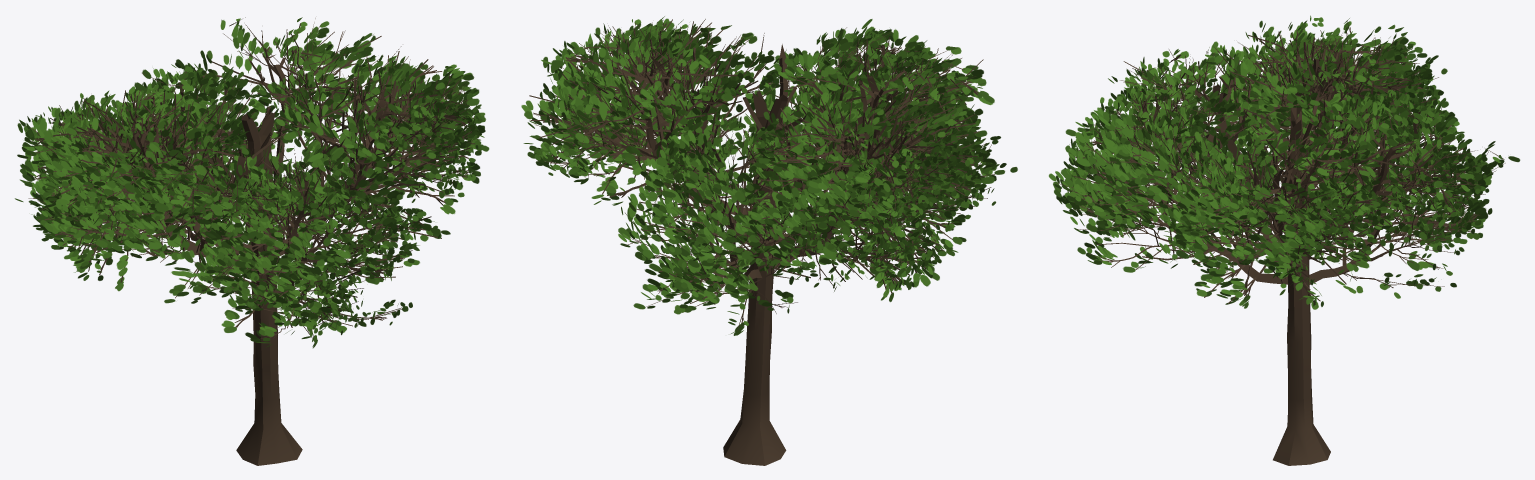
3 views of the same model, side by side, from view 1: azimuth 30°, elevation 25°; view 2: azimuth 150°, elevation 25°; view 3: azimuth 270°, elevation 25° (orthographic). The views are drawn at different scales.
Parts seen in each view (by area): view 1: oak 01.001_trunk_Mat.001_0.015; view 2: oak 01.001_trunk_Mat.001_0.015; view 3: oak 01.001_trunk_Mat.001_0.015.
Boxes of the visible parts, x1,y1,x2,y2 form: oak 01.001_trunk_Mat.001_0.015: [14, 17, 489, 465]; oak 01.001_trunk_Mat.001_0.015: [521, 16, 1017, 465]; oak 01.001_trunk_Mat.001_0.015: [1048, 15, 1520, 465].
Bounding box in the file's own units: 4.43 × 3.48 × 4.2.
Materials: 2 (1 with a texture image).
